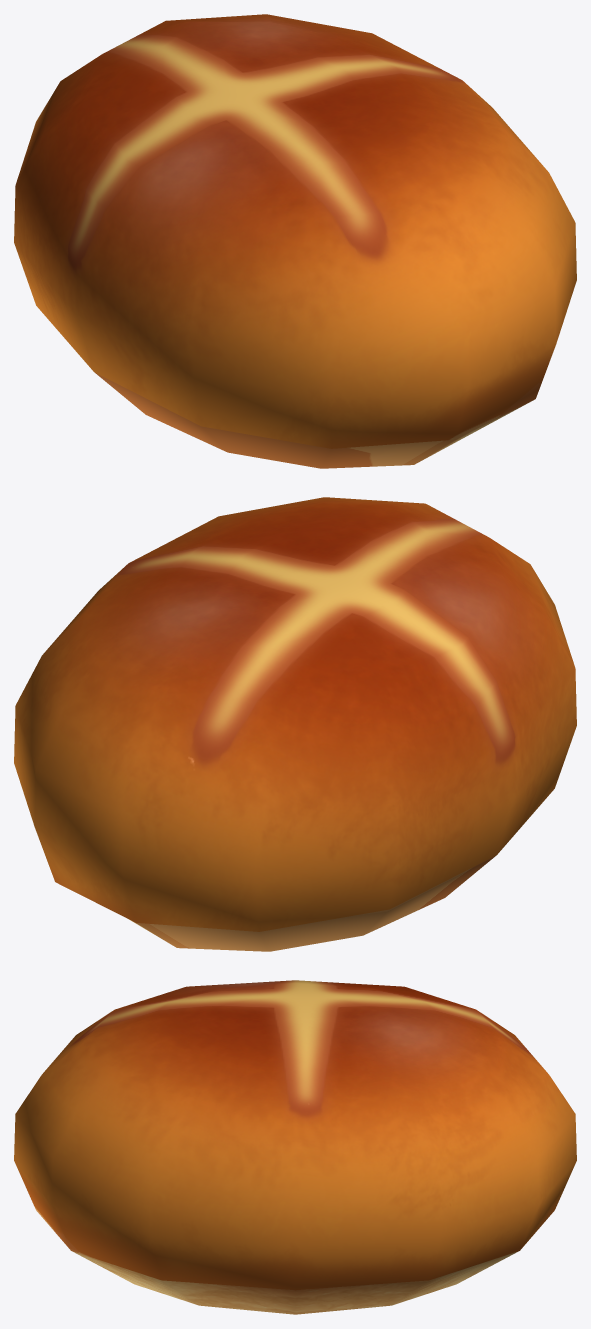
File: Roll_02.fbx
3 views of the same model, one above another, from view 1: azimuth 30°, elevation 25°; view 2: azimuth 150°, elevation 25°; view 3: azimuth 270°, elevation 25° (orthographic). The views are drawn at different scales.
Parts seen in each view (by area): view 1: Roll_02; view 2: Roll_02; view 3: Roll_02.
Boxes of the visible parts, x1,y1,x2,y2 form: Roll_02: (14, 14, 576, 468); Roll_02: (14, 497, 576, 951); Roll_02: (14, 980, 576, 1314).
Bounding box in the file's own units: 36.05 × 25.52 × 49.48.
